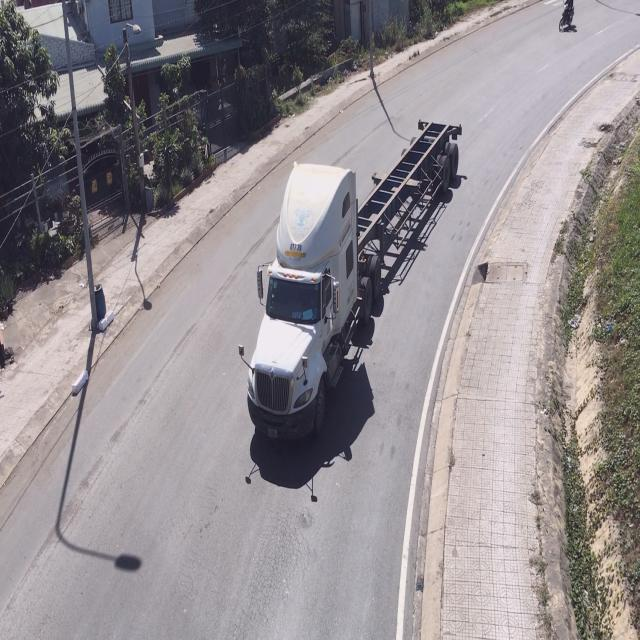motorbike: (557, 1, 576, 33)
truck: (245, 124, 464, 450)
